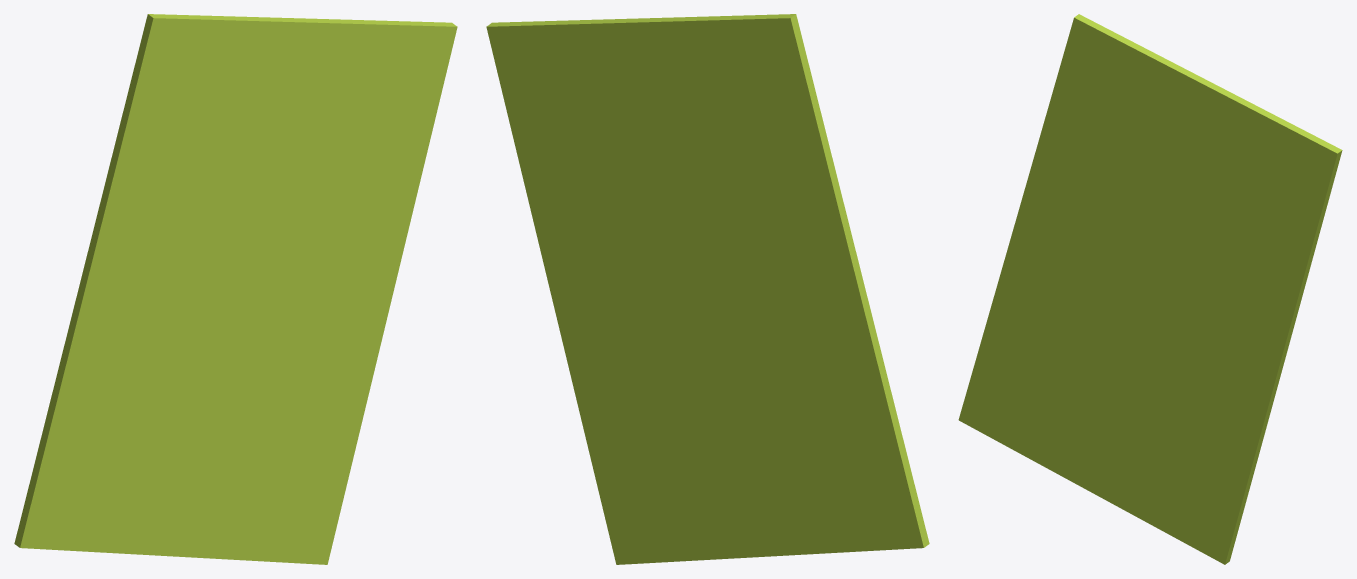
The picture shows the model from 3 angles, left to right: view 1: azimuth 30°, elevation 25°; view 2: azimuth 150°, elevation 25°; view 3: azimuth 330°, elevation 25°; orthographic projection. The views are drawn at different scales.
Visible parts, largest first — view 1: osm-way27917482-F2; view 2: osm-way27917482-F2; view 3: osm-way27917482-F2.
Boxes of the visible parts, left/top/right/bottom form: osm-way27917482-F2: left=14, top=14, right=457, bottom=564; osm-way27917482-F2: left=486, top=14, right=929, bottom=564; osm-way27917482-F2: left=958, top=14, right=1342, bottom=564.
Bounding box in the file's own units: 6.7 × 8.62 × 0.15.
